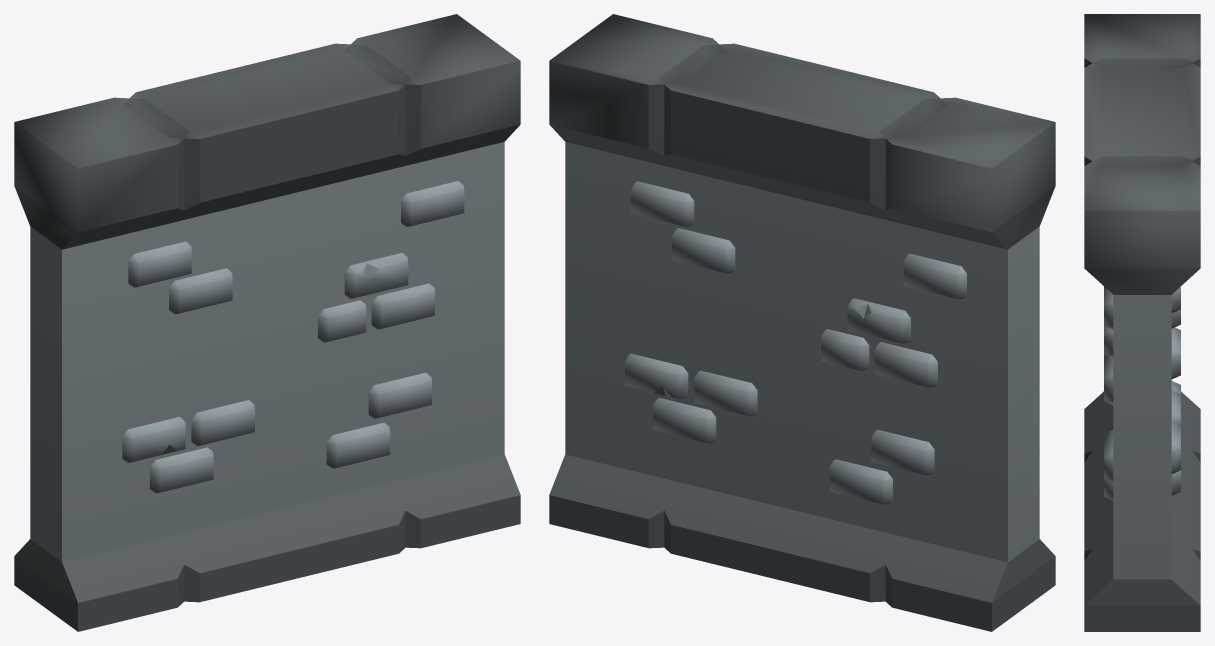
The model's file is cellar_wall-optimized.glb.
3 views of the same model, side by side, from view 1: azimuth 30°, elevation 25°; view 2: azimuth 150°, elevation 25°; view 3: azimuth 270°, elevation 25° (orthographic). The views are drawn at different scales.
Parts seen in each view (by area): view 1: wall; view 2: wall; view 3: wall.
Boxes of the visible parts, x1,y1,x2,y2 form: wall: (14,14,520,631); wall: (549,14,1055,631); wall: (1084,14,1200,631).
Size of the model in its own units: 4 by 4 by 1.
1 material, 1 textured.
